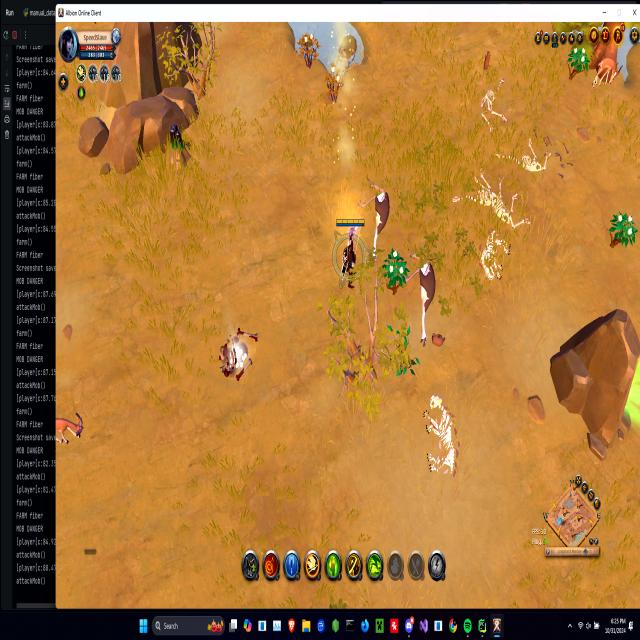hide: (383, 248, 408, 293), (611, 208, 635, 251), (297, 29, 320, 72), (323, 60, 345, 104), (568, 43, 589, 78)
mob: (359, 173, 391, 258), (410, 251, 438, 348), (55, 408, 87, 448)
ore: (592, 56, 624, 88)
player: (164, 119, 193, 171)
red: (333, 213, 364, 284)
stone: (226, 334, 253, 378)
